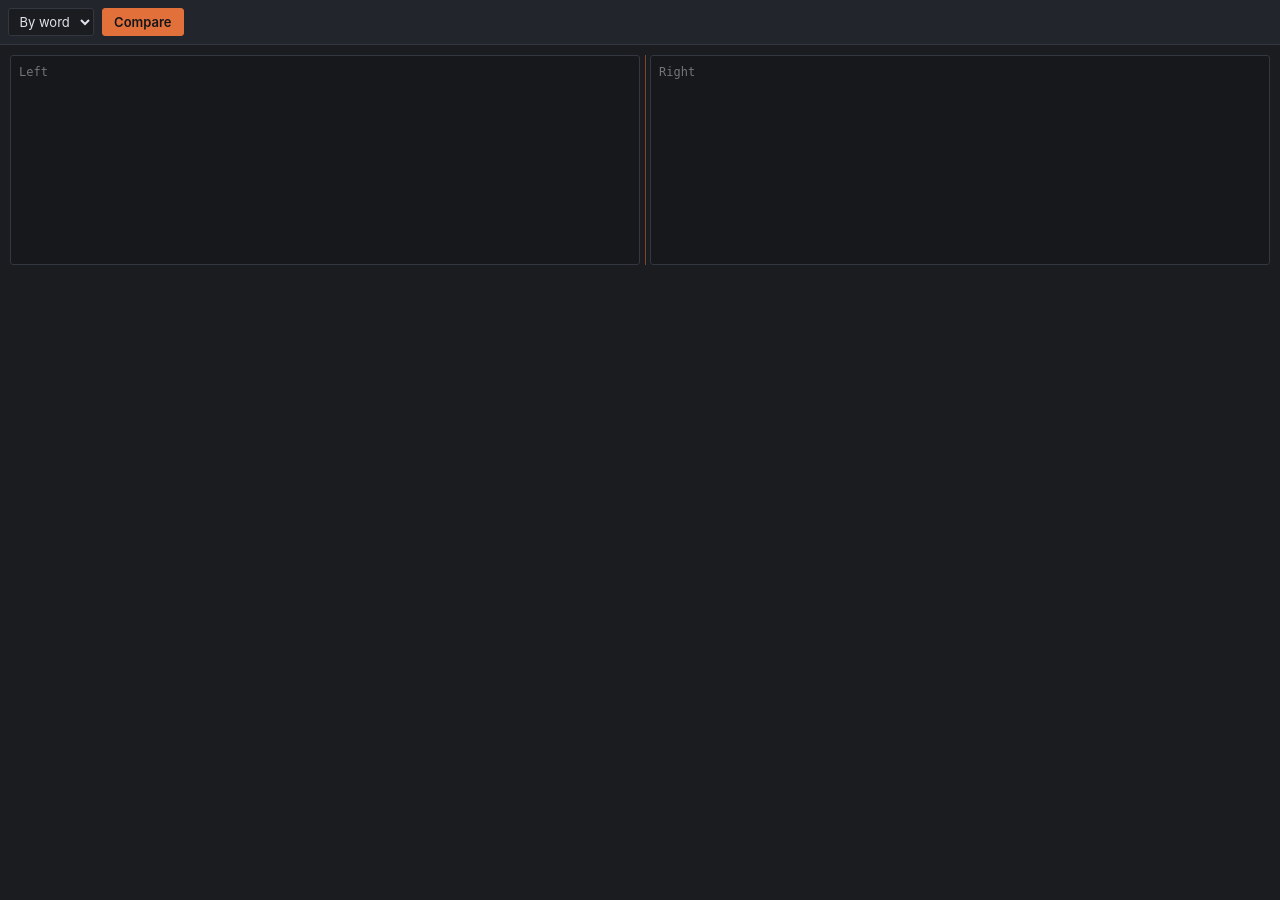
DiffTab › marks insertions and replacements with classes
This screenshot has width=1280, height=900.
Click the button "Compare". click: (143, 22)
box: [102,8,184,36]
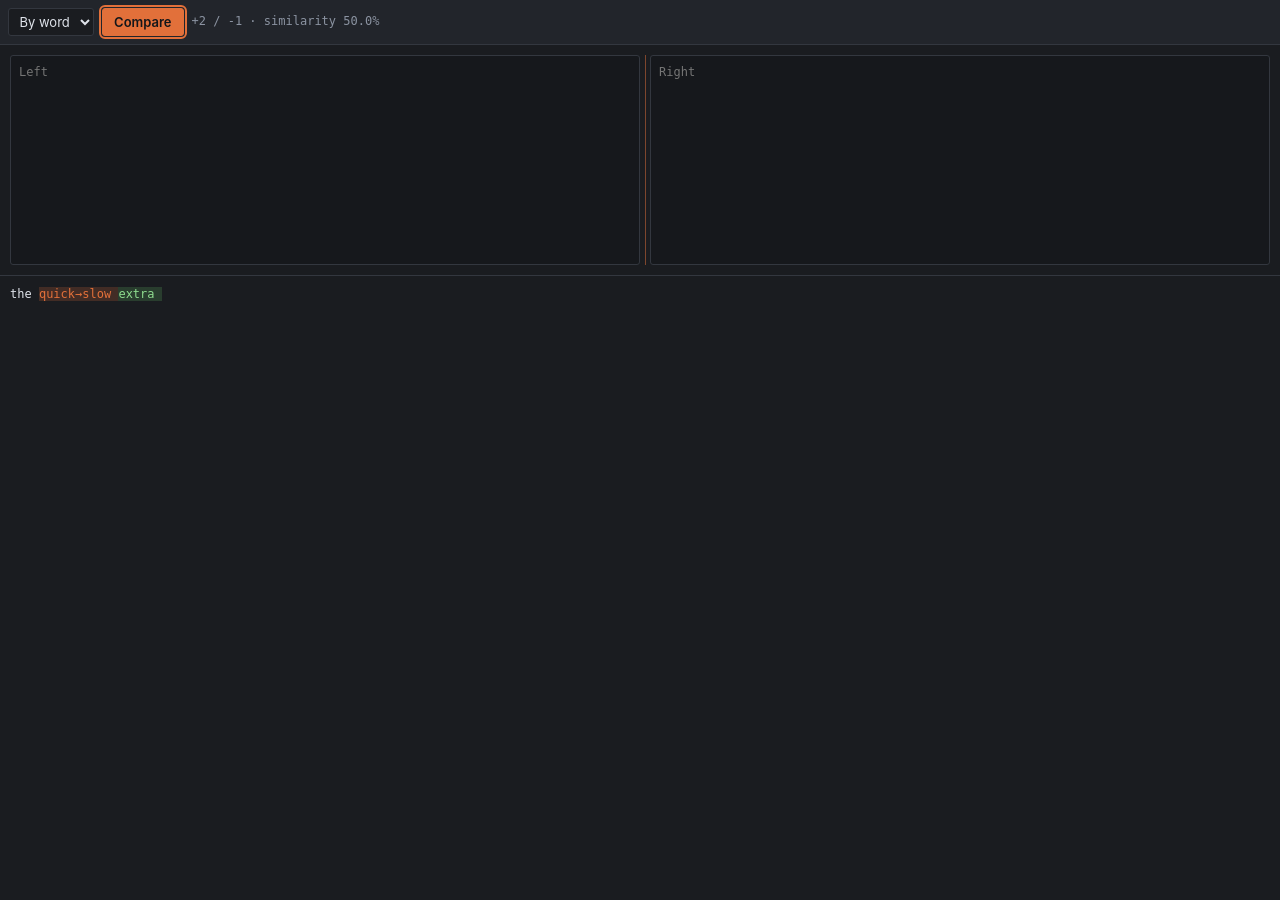
Expected: the element with test id "diff" is shown
Expected: the number of elements with class "diff-replace" is 1, [39,287,118,301]
Expected: the number of elements with class "diff-insert" is 1, [118,287,162,301]
